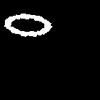chain: (5, 14, 51, 36)
